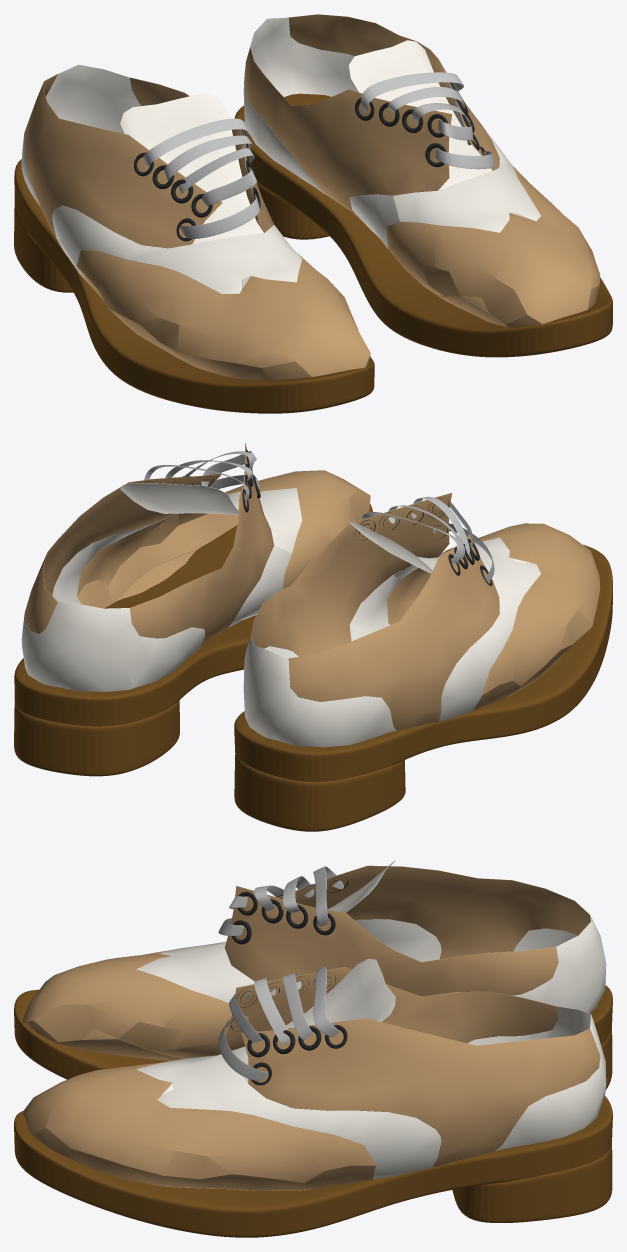
The picture shows the model from 3 angles, top to bottom: view 1: azimuth 30°, elevation 25°; view 2: azimuth 150°, elevation 25°; view 3: azimuth 270°, elevation 25°; orthographic projection.
Parts seen in each view (by area): view 1: zapato2.001, zapato2, Plane, Plane.011, Plane.007, Plane.004, Plane.006, Plane.008, Plane.003, Plane.010, Plane.009, Plane.005; view 2: zapato2.001, zapato2, Plane.011, Plane, Plane.010; view 3: zapato2, zapato2.001, Plane, Plane.011, Plane.001, Plane.003, Plane.004, Plane.007, Plane.005, Plane.008, Plane.002.
Part boxes in pixels (x1,y1,x2,y2): zapato2.001: (21,64,370,379); zapato2: (243,14,600,327); Plane: (234,93,612,357); Plane.011: (14,159,374,413); Plane.007: (143,118,249,166); Plane.004: (360,72,463,113); Plane.006: (180,194,259,238); Plane.008: (164,135,252,181); Plane.003: (387,87,464,113); Plane.010: (179,148,254,193); Plane.009: (201,167,256,206); Plane.005: (435,148,494,169); zapato2.001: (243,493,600,747); zapato2: (21,442,370,691); Plane.011: (234,545,612,831); Plane: (14,503,373,776); Plane.010: (411,496,469,555); zapato2: (23,958,606,1190); zapato2.001: (23,860,606,1060); Plane: (14,1096,612,1237); Plane.011: (14,985,612,1089); Plane.001: (254,978,290,1044); Plane.003: (283,973,312,1040); Plane.004: (313,965,340,1037); Plane.007: (313,866,343,926); Plane.005: (218,1016,268,1080); Plane.008: (283,876,314,913); Plane.002: (229,992,262,1042).
Bounding box in the file's own units: 390 × 176 × 447.
